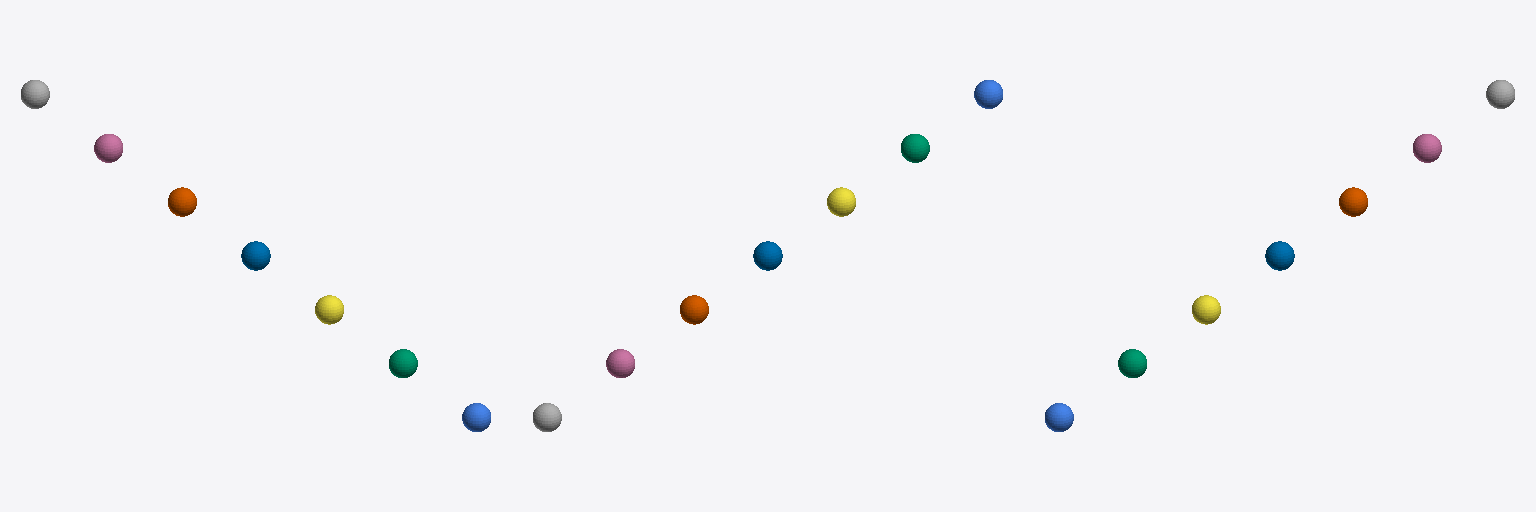
URDF robot description (pendulum):
<?xml version="1.0" encoding="utf-8"?>
<robot name="pendulum">
  <!--
  Author: Erwin Coumans <[email redacted]>
  Contributers:
-->
  
  <link name="world"/>
  <material name="Blue">
    <color rgba="0.28 0.52 0.92 1.0"/>
  </material>
  <link name="link0">
    <visual>
      <geometry>
        <sphere radius="0.05"/>
      </geometry>
      <origin rpy="0 0 0" xyz="0 0.5 0"/>
      <material name="Blue"/>
    </visual>
    <collision>
      <geometry>
        <sphere radius="0.05"/>
      </geometry>
      <origin rpy="0 0 0" xyz="0 0.5 0"/>
    </collision>
    <inertial>
      <origin rpy="0 0 0" xyz="0 0.5 0"/>
      <mass value="1."/>
      <inertia ixx="0.00494875" ixy="0" ixz="0" iyy="0.00494174" iyz="0" izz="0.002219"/>
    </inertial>
  </link>
  <joint name="joint0" type="continuous">
    <parent link="world"/>
    <child link="link0"/>
    <origin rpy="0 0 0" xyz="0 0 0"/>
    <axis xyz="1 0 0"/>
    <dynamics damping="1.0" friction="1.0"/>
  </joint>
  <link name="link1">
    <visual>
      <geometry>
        <sphere radius="0.05"/>
      </geometry>
      <origin rpy="0 0 0" xyz="0 0.5 0"/>
      <material name="Red"/>
    </visual>
    <collision>
      <geometry>
        <sphere radius="0.05"/>
      </geometry>
      <origin rpy="0 0 0" xyz="0 0.5 0"/>
    </collision>
    <inertial>
      <origin rpy="0 0 0" xyz="0 0.5 0"/>
      <mass value="2.16"/>
      <inertia ixx="0.00539427" ixy="0" ixz="0" iyy="0.0048979" iyz="0" izz="0.00311573"/>
    </inertial>
  </link>
  <joint name="joint1" type="continuous">
    <parent link="link0"/>
    <child link="link1"/>
    <origin rpy="0 0 0" xyz="0 0.5 0"/>
    <axis xyz="1 0 0"/>
    <dynamics damping="1.0" friction="1.0"/>
  </joint>
 <link name="link2">
    <visual>
      <geometry>
        <sphere radius="0.05"/>
      </geometry>
      <origin rpy="0 0 0" xyz="0 0.5 0"/>
      <material name="Red"/>
    </visual>
    <collision>
      <geometry>
        <sphere radius="0.05"/>
      </geometry>
      <origin rpy="0 0 0" xyz="0 0.5 0"/>
    </collision>
    <inertial>
      <origin rpy="0 0 0" xyz="0 0.5 0"/>
      <mass value="2.16"/>
      <inertia ixx="0.00539427" ixy="0" ixz="0" iyy="0.0048979" iyz="0" izz="0.00311573"/>
    </inertial>
  </link>
  <joint name="joint2" type="continuous">
    <parent link="link1"/>
    <child link="link2"/>
    <origin rpy="0 0 0" xyz="0 0.5 0"/>
    <axis xyz="1 0 0"/>
    <dynamics damping="1.0" friction="1.0"/>
  </joint>
  <link name="link3">
    <visual>
      <geometry>
        <sphere radius="0.05"/>
      </geometry>
      <origin rpy="0 0 0" xyz="0 0.5 0"/>
      <material name="Red"/>
    </visual>
    <collision>
      <geometry>
        <sphere radius="0.05"/>
      </geometry>
      <origin rpy="0 0 0" xyz="0 0.5 0"/>
    </collision>
    <inertial>
      <origin rpy="0 0 0" xyz="0 0.5 0"/>
      <mass value="2.16"/>
      <inertia ixx="0.00539427" ixy="0" ixz="0" iyy="0.0048979" iyz="0" izz="0.00311573"/>
    </inertial>
  </link>
  <joint name="joint3" type="continuous">
    <parent link="link2"/>
    <child link="link3"/>
    <origin rpy="0 0 0" xyz="0 0.5 0"/>
    <axis xyz="1 0 0"/>
    <dynamics damping="1.0" friction="1.0"/>
  </joint>
   <link name="link4">
    <visual>
      <geometry>
        <sphere radius="0.05"/>
      </geometry>
      <origin rpy="0 0 0" xyz="0 0.5 0"/>
      <material name="Red"/>
    </visual>
    <collision>
      <geometry>
        <sphere radius="0.05"/>
      </geometry>
      <origin rpy="0 0 0" xyz="0 0.5 0"/>
    </collision>
    <inertial>
      <origin rpy="0 0 0" xyz="0 0.5 0"/>
      <mass value="2.16"/>
      <inertia ixx="0.00539427" ixy="0" ixz="0" iyy="0.0048979" iyz="0" izz="0.00311573"/>
    </inertial>
  </link>
  <joint name="joint4" type="continuous">
    <parent link="link3"/>
    <child link="link4"/>
    <origin rpy="0 0 0" xyz="0 0.5 0"/>
    <axis xyz="1 0 0"/>
    <dynamics damping="1.0" friction="1.0"/>
  </joint>
   <link name="link5">
    <visual>
      <geometry>
        <sphere radius="0.05"/>
      </geometry>
      <origin rpy="0 0 0" xyz="0 0.5 0"/>
      <material name="Red"/>
    </visual>
    <collision>
      <geometry>
        <sphere radius="0.05"/>
      </geometry>
      <origin rpy="0 0 0" xyz="0 0.5 0"/>
    </collision>
    <inertial>
      <origin rpy="0 0 0" xyz="0 0.5 0"/>
      <mass value="2.16"/>
      <inertia ixx="0.00539427" ixy="0" ixz="0" iyy="0.0048979" iyz="0" izz="0.00311573"/>
    </inertial>
  </link>
  <joint name="joint5" type="continuous">
    <parent link="link4"/>
    <child link="link5"/>
    <origin rpy="0 0 0" xyz="0 0.5 0"/>
    <axis xyz="1 0 0"/>
    <dynamics damping="1.0" friction="1.0"/>
  </joint>
   <link name="link6">
    <visual>
      <geometry>
        <sphere radius="0.05"/>
      </geometry>
      <origin rpy="0 0 0" xyz="0 0.5 0"/>
      <material name="Red"/>
    </visual>
    <collision>
      <geometry>
        <sphere radius="0.05"/>
      </geometry>
      <origin rpy="0 0 0" xyz="0 0.5 0"/>
    </collision>
    <inertial>
      <origin rpy="0 0 0" xyz="0 0.5 0"/>
      <mass value="2.16"/>
      <inertia ixx="0.00539427" ixy="0" ixz="0" iyy="0.0048979" iyz="0" izz="0.00311573"/>
    </inertial>
  </link>
  <joint name="joint6" type="continuous">
    <parent link="link5"/>
    <child link="link6"/>
    <origin rpy="0 0 0" xyz="0 0.5 0"/>
    <axis xyz="1 0 0"/>
    <dynamics damping="1.0" friction="1.0"/>
  </joint>

 <link name="link-1">
    <visual>
      <geometry>
        <sphere radius="0.05"/>
      </geometry>
      <origin rpy="0 0 0" xyz="0 0. 0"/>
      <material name="Red"/>
    </visual>
    <inertial>
      <origin rpy="0 0 0" xyz="0 0. 0"/>
      <mass value="0.01"/>
      <inertia ixx="0.0001" ixy="0" ixz="0" iyy="0.0001" iyz="0" izz="0.0001"/>
    </inertial>
  </link>
  <joint name="jointfix" type="fixed">
    <parent link="link6"/>
    <child link="link-1"/>
    <dynamics damping="1.0" friction="0.0001"/>
    <origin rpy="0.00000 -0.00000 0.00000" xyz="0 0.5 0"/>
    <axis xyz="0.00000 0.00000 0.00000"/>
  </joint>
</robot>

--- Facts derived from the render (not from the file) ---
Views: 3 orthographic renders of the robot side by side, from view 1: azimuth 30°, elevation 25°; view 2: azimuth 150°, elevation 25°; view 3: azimuth 330°, elevation 25°.
Model pendulum with 9 links and 8 joints (7 continuous, 1 fixed), rooted at world, posed all joints at 0.
Links seen in each view (by area): view 1: link3, link0, link2, link4, link6, link1, link5; view 2: link3, link0, link2, link4, link6, link1, link5; view 3: link3, link0, link2, link4, link6, link1, link5.
Boxes of the visible links, box(x1,y1,x2,y2) form: link3: box(241, 241, 270, 270); link0: box(462, 403, 490, 431); link2: box(315, 295, 343, 324); link4: box(168, 187, 196, 216); link6: box(21, 80, 49, 108); link1: box(389, 349, 417, 377); link5: box(94, 134, 122, 162); link3: box(753, 241, 782, 270); link0: box(974, 80, 1002, 108); link2: box(827, 187, 855, 216); link4: box(680, 295, 708, 324); link6: box(533, 403, 561, 431); link1: box(901, 134, 929, 162); link5: box(606, 349, 634, 377); link3: box(1265, 241, 1294, 270); link0: box(1045, 403, 1073, 431); link2: box(1192, 295, 1220, 324); link4: box(1339, 187, 1367, 216); link6: box(1486, 80, 1514, 108); link1: box(1118, 349, 1146, 377); link5: box(1413, 134, 1441, 162).
Size in the robot's own frame: 0.1 by 3.1 by 0.1 metres.
Geometry: primitives only (box / cylinder / sphere), no mesh files.
